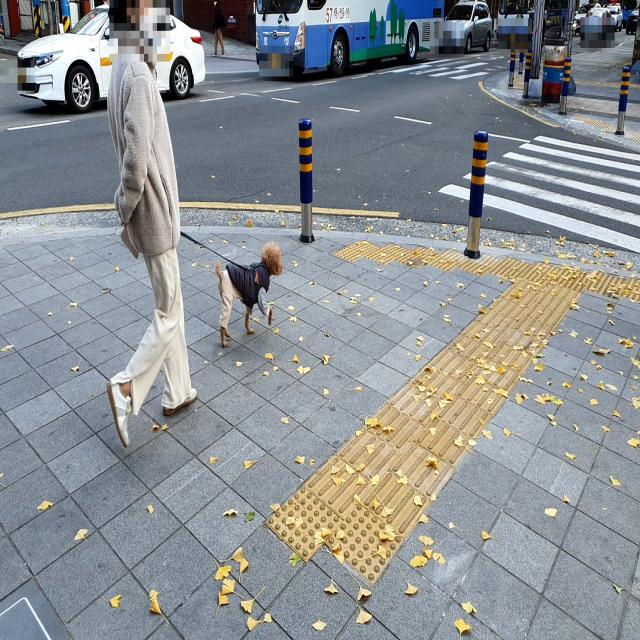Leashed_Dog: (156, 229, 284, 348)
